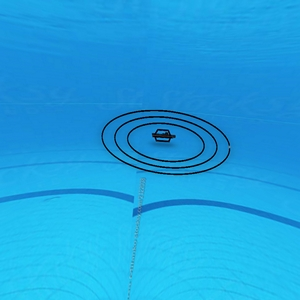circle: (101, 105, 232, 177)
submarine: (151, 128, 176, 145)
